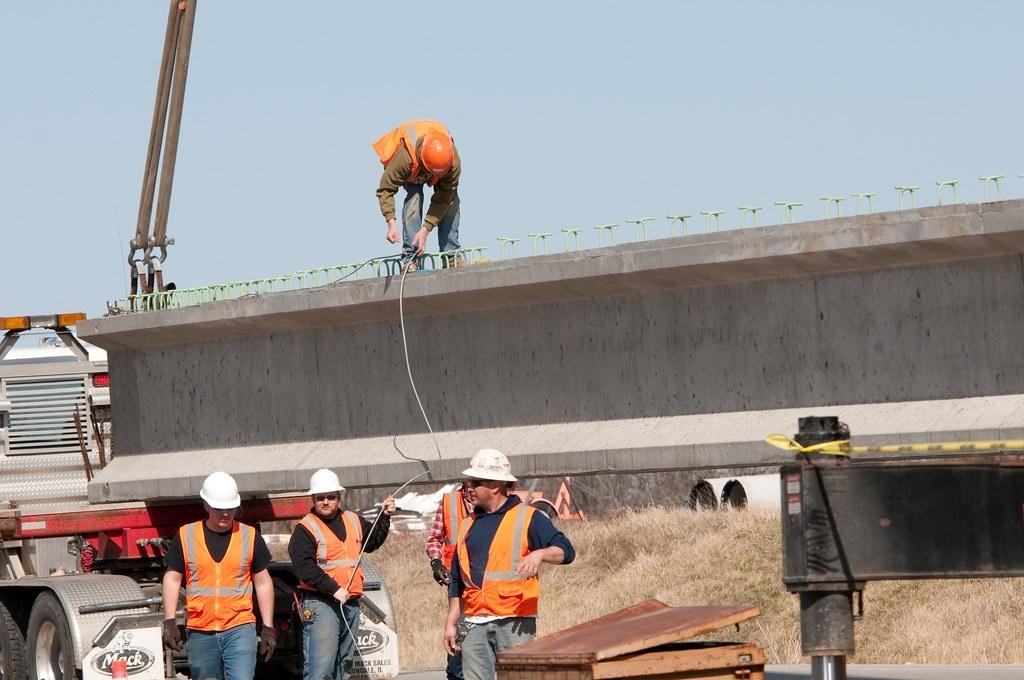gloves: (162, 619, 184, 652), (259, 626, 276, 661), (430, 557, 449, 584), (333, 588, 349, 603)
helmet: (463, 449, 516, 481), (199, 471, 239, 509), (420, 133, 453, 174), (308, 468, 344, 494)
vest: (457, 504, 539, 616), (179, 521, 255, 631), (300, 511, 363, 596), (371, 119, 450, 181), (441, 490, 467, 569)
worker: (444, 449, 574, 679), (162, 471, 276, 679), (288, 468, 395, 679), (372, 119, 463, 270), (446, 654, 462, 679)
